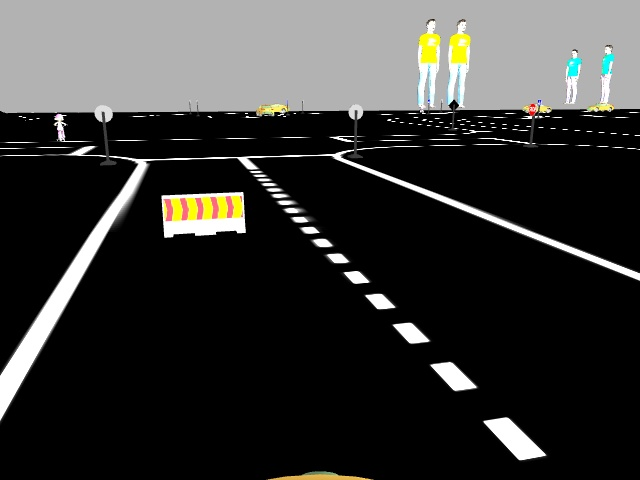ClosedRoadStand: (162, 196, 245, 233)
